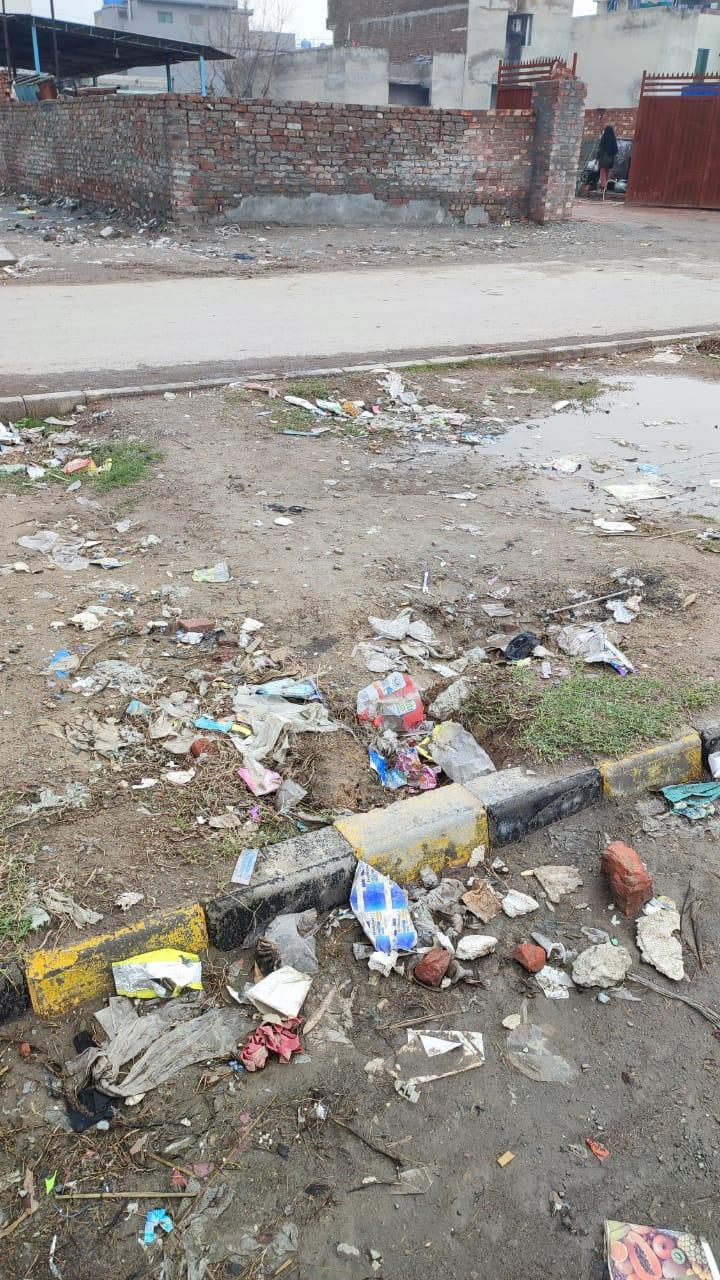garbage: (138, 576, 699, 999)
